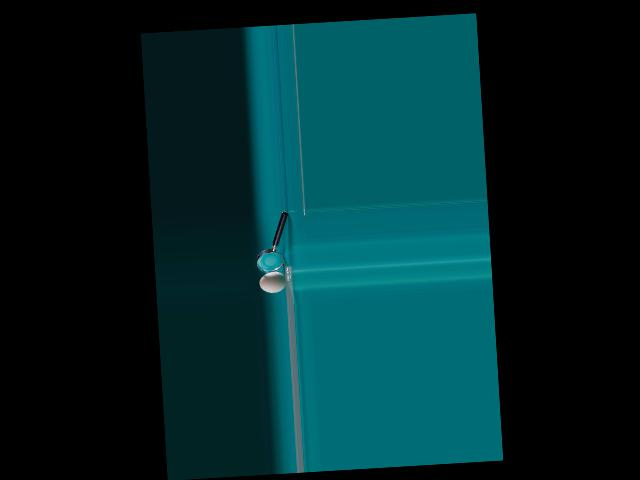egg: (258, 271, 287, 294)
